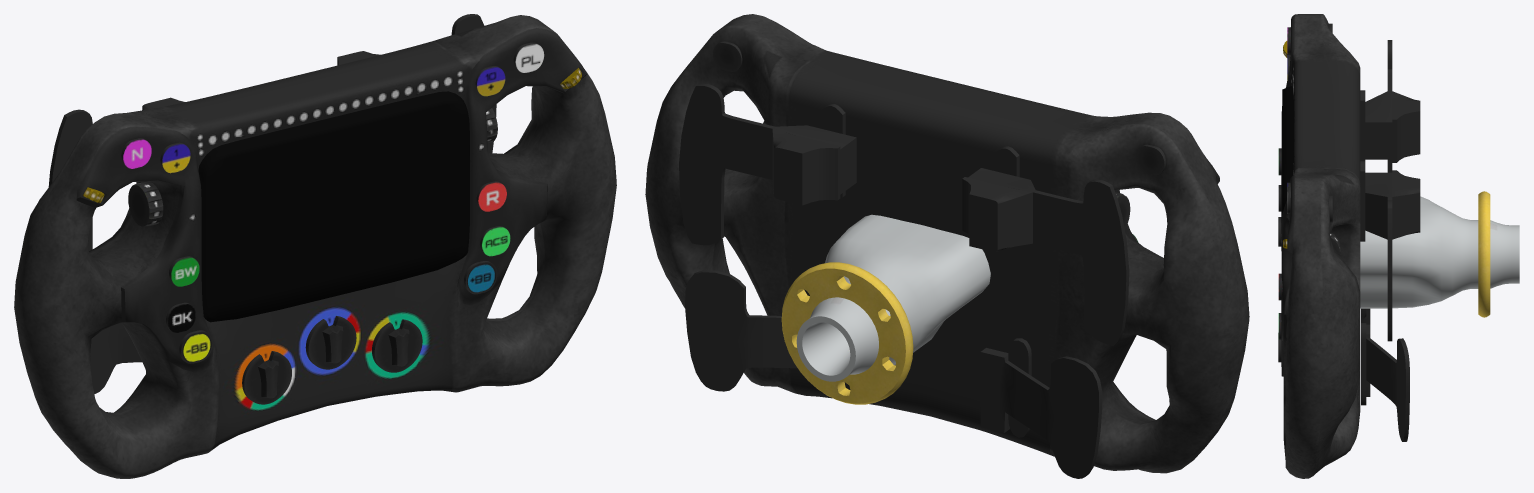
The model's file is steering-wheel_type_formula.glb.
3 renders of one model, left to right at view 1: azimuth 30°, elevation 25°; view 2: azimuth 150°, elevation 25°; view 3: azimuth 270°, elevation 25°, orthographic. The views are drawn at different scales.
Parts seen in each view (by area): view 1: Volante_High__0; view 2: Volante_High__0; view 3: Volante_High__0.
Part boxes in pixels (<box>): Volante_High__0: <box>14,14,616,478</box>; Volante_High__0: <box>645,14,1249,478</box>; Volante_High__0: <box>1278,14,1519,478</box>.
Size of the model in its own units: 0.3168 by 0.1816 by 0.1343.
1 material, 1 textured.
